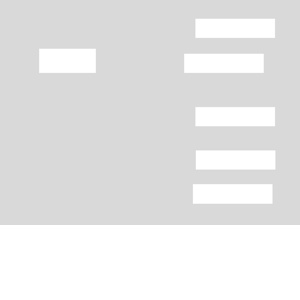square: (193, 146, 278, 173), (193, 104, 277, 130), (193, 16, 278, 41), (182, 51, 266, 76), (191, 182, 274, 206), (37, 46, 99, 75)
